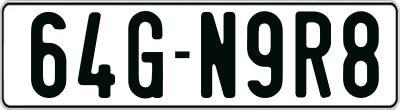4: (76, 11, 116, 99)
6: (30, 10, 66, 97)
8: (343, 8, 382, 97)
9: (247, 10, 285, 97)
G: (126, 10, 165, 99)
N: (199, 10, 236, 99)
R: (294, 11, 330, 99)
